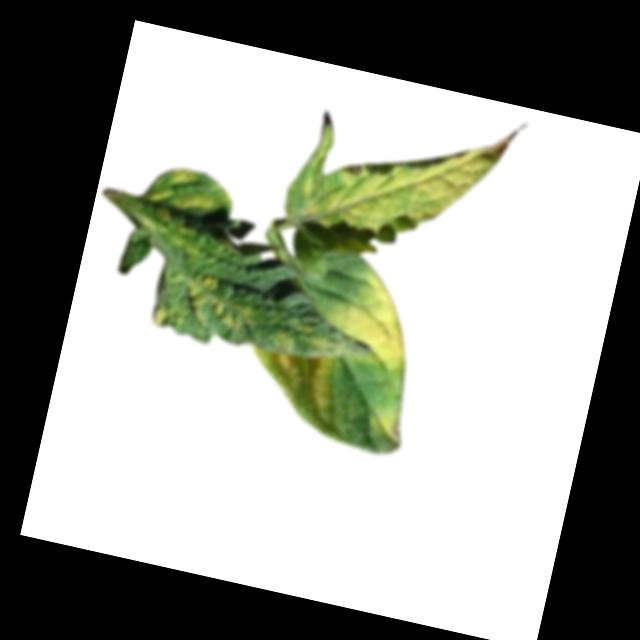Leaf_Mold: (288, 110, 498, 278), (319, 259, 425, 374), (232, 343, 341, 438), (181, 272, 261, 337), (146, 160, 219, 218), (293, 320, 349, 356), (365, 410, 405, 448), (270, 327, 295, 353), (149, 302, 170, 331)
